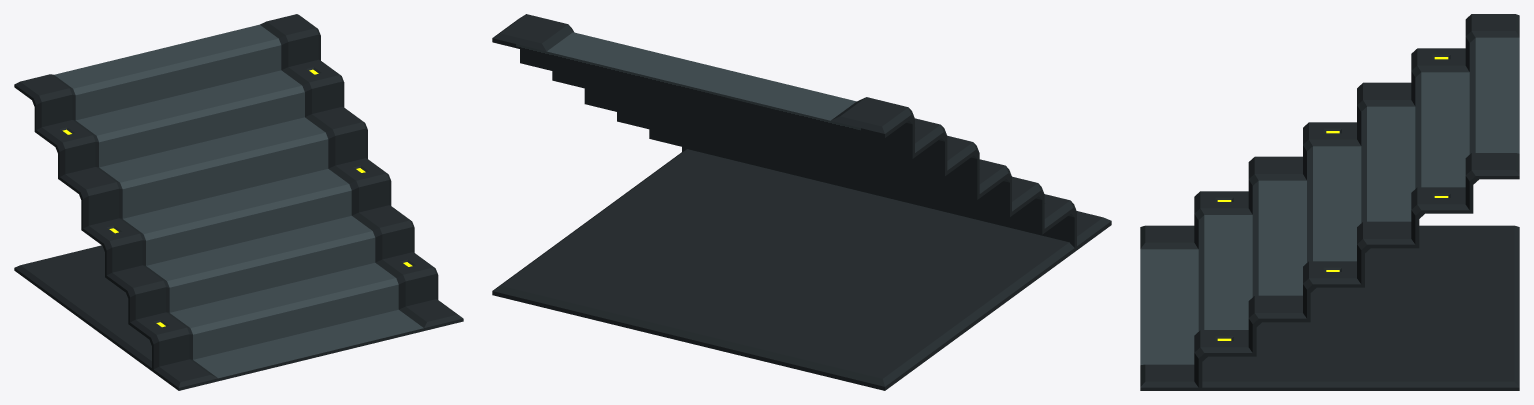
The model's file is floorStairsUp.fbx.
3 views of the same model, side by side, from view 1: azimuth 30°, elevation 25°; view 2: azimuth 150°, elevation 25°; view 3: azimuth 270°, elevation 25° (orthographic). The views are drawn at different scales.
Visible parts, largest first — view 1: floorStairsUp; view 2: floorStairsUp; view 3: floorStairsUp.
Part boxes in pixels (bbox=[...]): floorStairsUp: bbox=[14, 14, 463, 390]; floorStairsUp: bbox=[492, 14, 1111, 390]; floorStairsUp: bbox=[1140, 14, 1519, 390].
Size of the model in its own units: 2 by 2 by 1.27.
